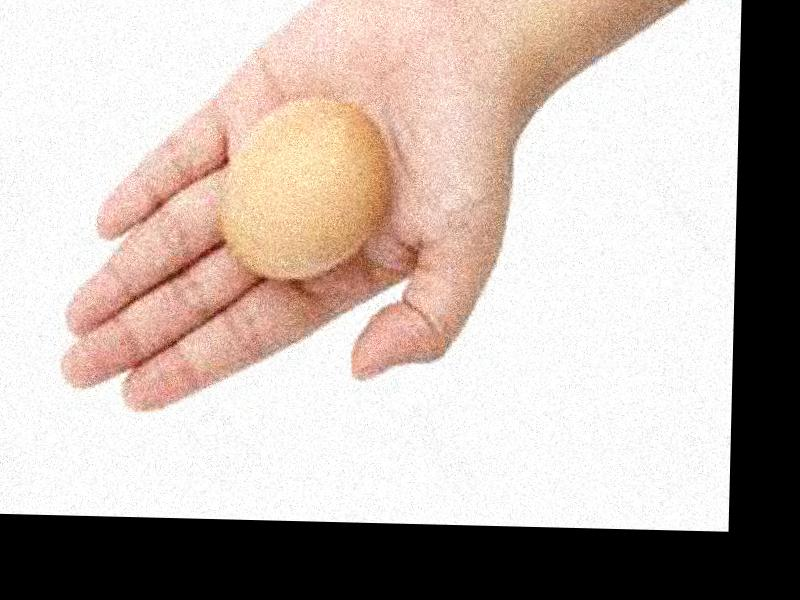Eggs: (223, 95, 393, 280)
